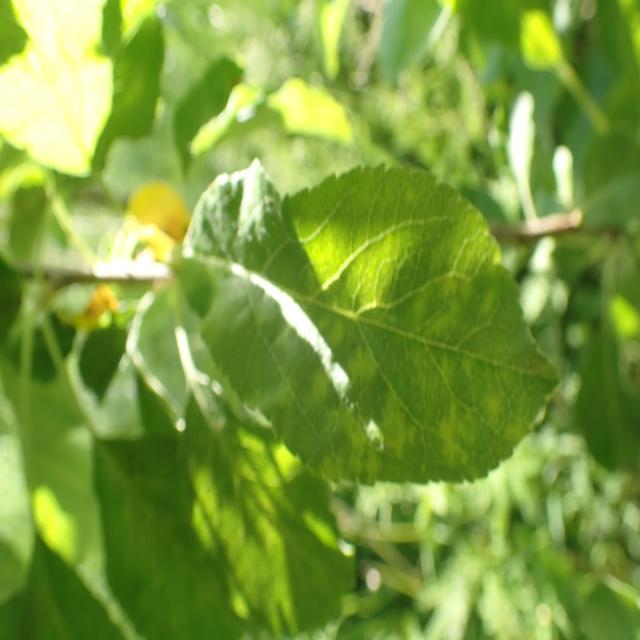scab: (186, 205, 534, 475)
